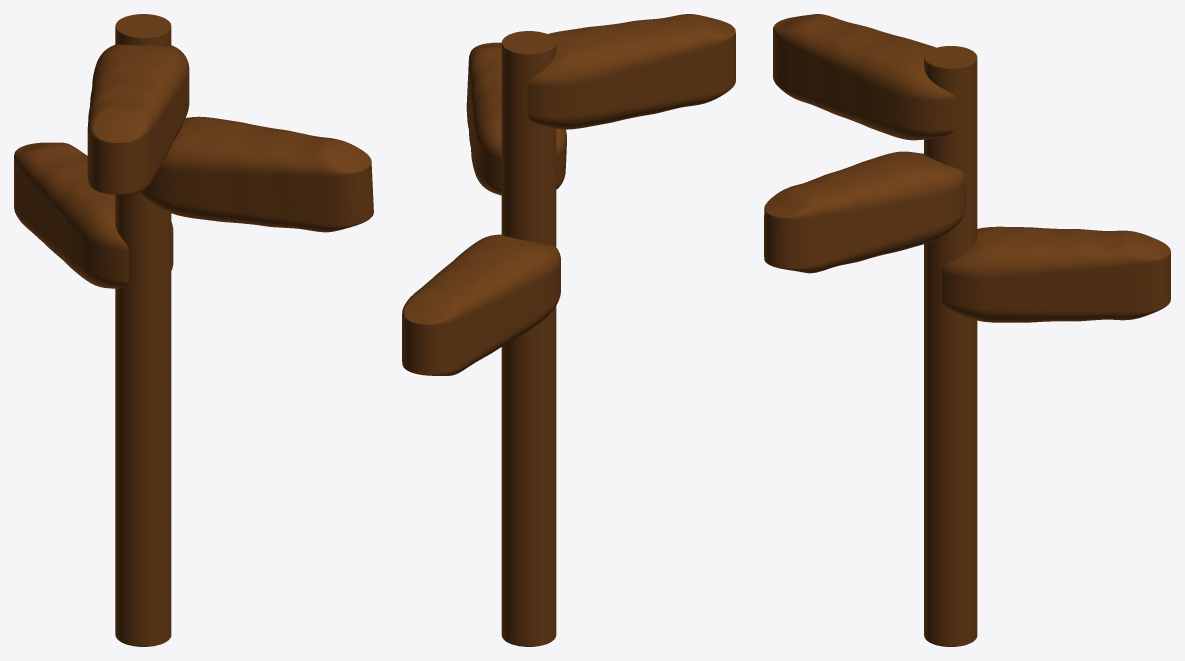
The model's file is wegweiser.glb.
The picture shows the model from 3 angles, left to right: view 1: azimuth 30°, elevation 25°; view 2: azimuth 150°, elevation 25°; view 3: azimuth 270°, elevation 25°; orthographic projection. The views are drawn at different scales.
Parts seen in each view (by area): view 1: 281850_23_05_26_17_10_30_0, 281850_23_05_26_17_10_30_3, 281850_23_05_26_17_10_30_2, 281850_23_05_26_17_10_30_1; view 2: 281850_23_05_26_17_10_30_0, 281850_23_05_26_17_10_30_2, 281850_23_05_26_17_10_30_1, 281850_23_05_26_17_10_30_3; view 3: 281850_23_05_26_17_10_30_0, 281850_23_05_26_17_10_30_1, 281850_23_05_26_17_10_30_3, 281850_23_05_26_17_10_30_2.
Part boxes in pixels (x1,y1,x2,y2): 281850_23_05_26_17_10_30_0: [115, 14, 171, 646]; 281850_23_05_26_17_10_30_3: [139, 116, 373, 232]; 281850_23_05_26_17_10_30_2: [87, 44, 189, 194]; 281850_23_05_26_17_10_30_1: [14, 142, 173, 288]; 281850_23_05_26_17_10_30_0: [501, 31, 556, 646]; 281850_23_05_26_17_10_30_2: [527, 14, 735, 129]; 281850_23_05_26_17_10_30_1: [402, 234, 560, 375]; 281850_23_05_26_17_10_30_3: [466, 42, 566, 195]; 281850_23_05_26_17_10_30_0: [924, 46, 977, 646]; 281850_23_05_26_17_10_30_1: [942, 226, 1170, 322]; 281850_23_05_26_17_10_30_3: [764, 151, 965, 273]; 281850_23_05_26_17_10_30_2: [773, 14, 956, 140].
Size of the model in its own units: 2.24 by 4.8 by 3.06.
Materials: 4 (4 with a texture image).
